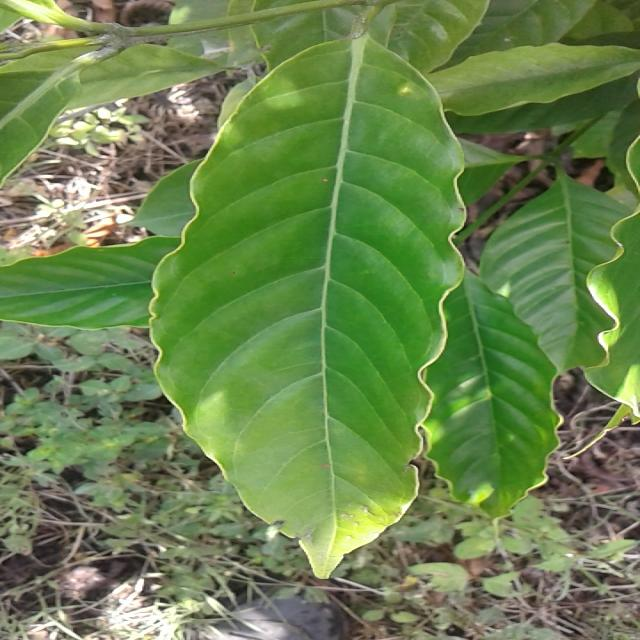Enfermedad-Roya: (147, 38, 463, 580)
